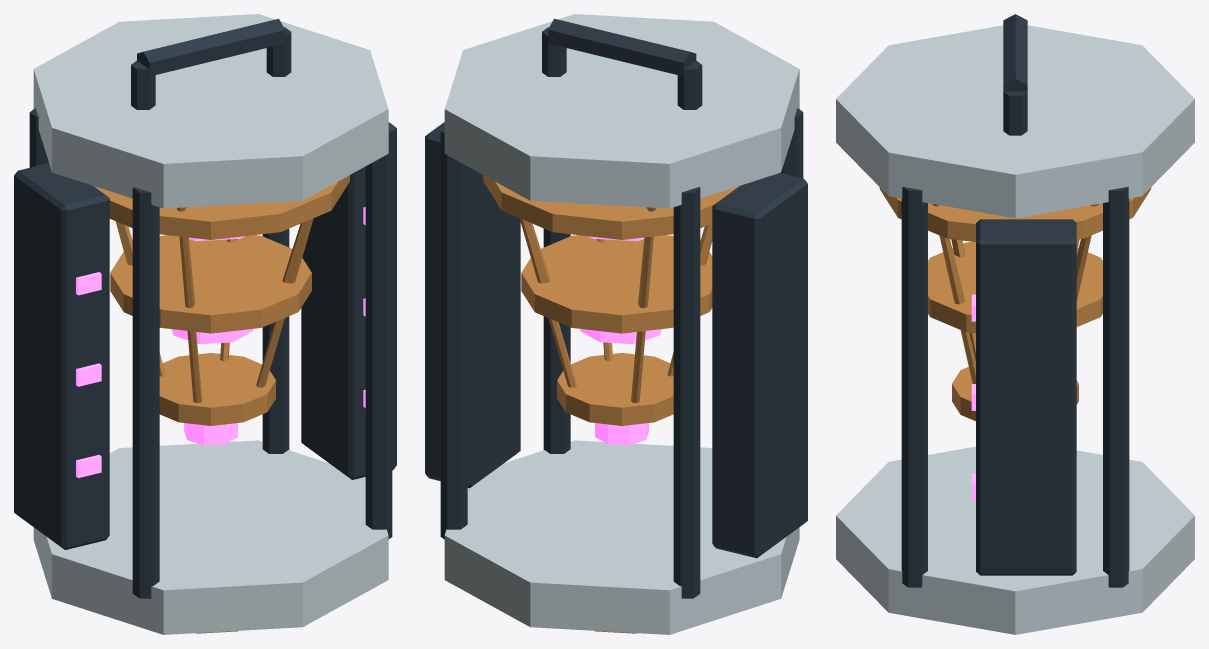
File: quantumcomputer.fbx
3 renders of one model, left to right at view 1: azimuth 30°, elevation 25°; view 2: azimuth 150°, elevation 25°; view 3: azimuth 270°, elevation 25°, orthographic. The views are drawn at different scales.
Visible parts, largest first — view 1: Quantum Computer.001; view 2: Quantum Computer.001; view 3: Quantum Computer.001.
Part boxes in pixels (bbox=[...]): Quantum Computer.001: bbox=[14, 14, 396, 634]; Quantum Computer.001: bbox=[425, 14, 807, 634]; Quantum Computer.001: bbox=[836, 14, 1194, 634].
Size of the model in its own units: 173 by 284 by 164.
